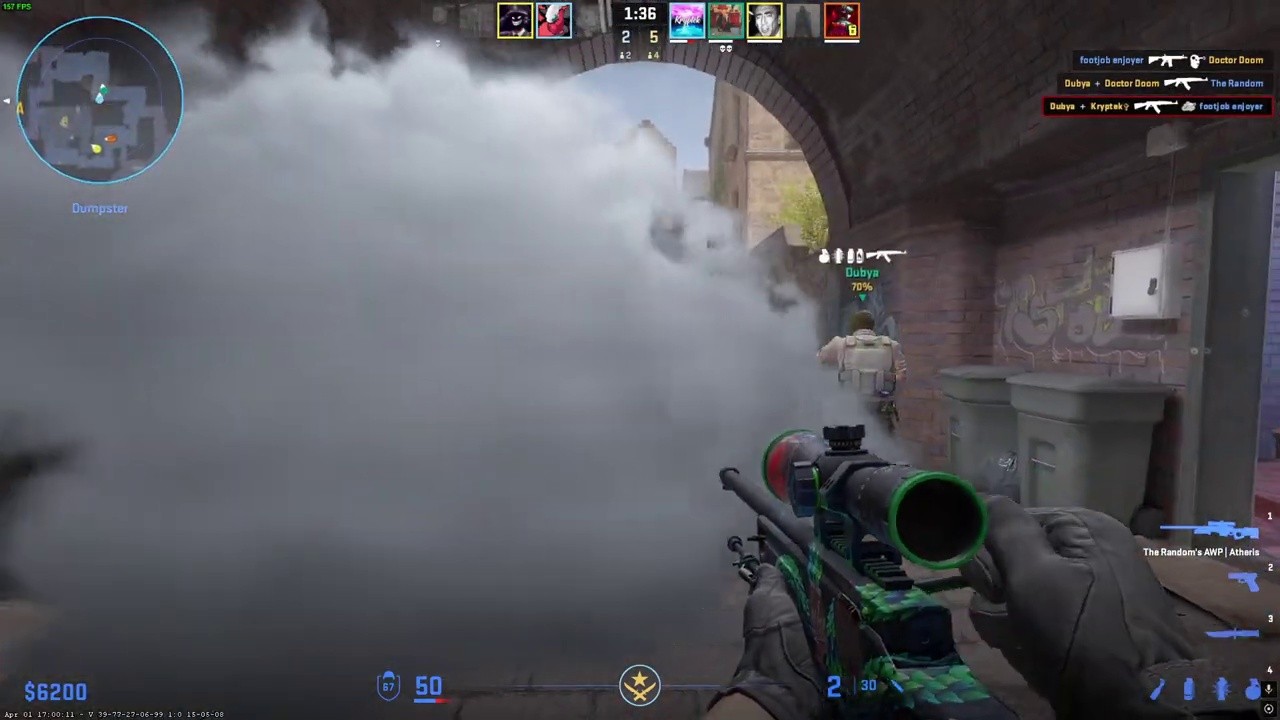Terrorist: (815, 310, 907, 439)
